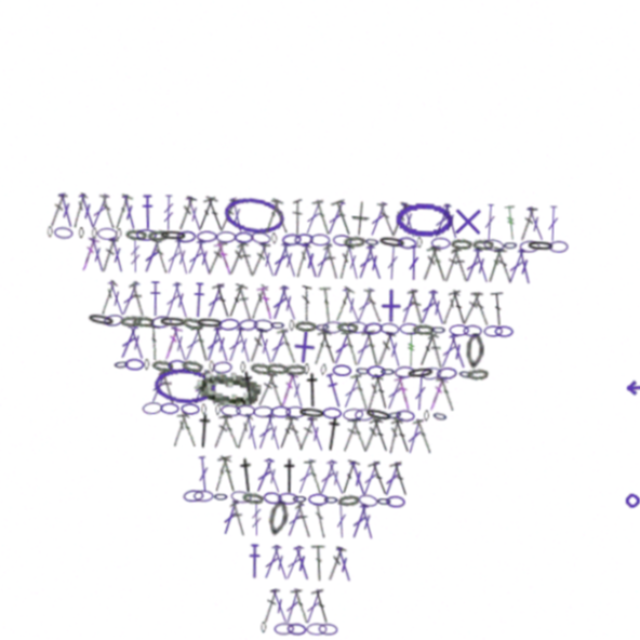chain: (240, 223, 299, 263), (219, 385, 281, 421), (181, 385, 240, 420), (400, 226, 455, 259), (289, 505, 311, 540), (469, 346, 486, 379), (376, 416, 404, 432), (117, 336, 145, 351), (414, 377, 442, 391), (384, 257, 412, 271), (315, 418, 342, 430), (184, 338, 211, 349), (218, 338, 245, 349), (182, 258, 209, 269), (522, 258, 549, 269), (205, 337, 226, 351), (428, 377, 448, 391), (482, 257, 502, 271), (354, 497, 375, 510), (206, 377, 227, 390), (470, 377, 491, 390), (148, 337, 169, 350), (171, 257, 192, 270), (373, 337, 392, 351), (211, 497, 231, 510), (255, 497, 275, 510), (171, 417, 191, 430), (403, 377, 423, 390), (442, 377, 462, 390), (177, 337, 197, 350), (285, 497, 304, 510), (373, 497, 392, 510), (133, 337, 152, 350), (267, 257, 286, 270), (307, 257, 326, 270), (266, 498, 286, 510), (179, 378, 199, 390), (270, 378, 290, 390), (302, 378, 322, 390), (353, 258, 373, 270), (299, 618, 318, 630), (244, 418, 263, 430), (274, 418, 293, 430), (357, 418, 376, 430), (235, 378, 254, 390), (240, 338, 259, 350), (258, 338, 277, 350), (272, 338, 291, 350), (336, 338, 355, 350), (198, 258, 217, 270), (516, 258, 535, 270), (285, 378, 305, 389), (160, 338, 180, 349), (310, 338, 330, 349), (349, 338, 369, 349), (419, 338, 439, 349), (151, 258, 171, 269), (452, 258, 472, 269), (472, 258, 492, 269), (311, 618, 329, 630), (368, 418, 386, 430), (406, 418, 424, 430), (389, 338, 407, 350), (85, 258, 103, 270), (296, 258, 314, 270), (403, 258, 421, 270), (329, 618, 348, 629), (221, 498, 240, 509), (299, 498, 318, 509), (327, 498, 346, 509), (290, 418, 309, 429), (304, 418, 323, 429), (359, 338, 378, 349), (407, 338, 426, 349), (453, 338, 472, 349), (125, 258, 144, 269), (161, 258, 180, 269), (217, 258, 236, 269), (235, 258, 254, 269), (322, 258, 341, 269), (397, 417, 413, 430), (439, 417, 455, 430), (340, 618, 358, 629), (399, 498, 417, 509), (188, 418, 206, 429), (207, 418, 225, 429), (258, 418, 276, 429), (338, 418, 356, 429), (154, 378, 172, 389), (194, 378, 212, 389), (346, 378, 364, 389), (378, 378, 396, 389), (466, 338, 484, 349), (485, 338, 503, 349), (495, 338, 513, 349), (252, 258, 270, 269), (343, 258, 361, 269), (434, 258, 452, 269), (543, 258, 561, 269), (143, 378, 159, 390), (462, 378, 478, 390), (328, 338, 344, 350), (372, 258, 387, 270), (239, 498, 254, 509), (312, 498, 327, 509), (341, 498, 356, 509), (390, 498, 405, 509), (367, 378, 382, 389), (390, 378, 405, 389), (287, 338, 302, 349), (436, 338, 451, 349), (500, 258, 515, 269), (232, 378, 238, 389), (335, 378, 341, 389), (142, 258, 148, 269), (286, 258, 292, 269), (287, 618, 292, 629), (226, 418, 231, 429), (239, 418, 244, 429), (432, 418, 437, 429), (172, 378, 177, 389), (261, 378, 266, 389), (320, 378, 325, 389), (305, 338, 310, 349), (79, 258, 84, 269), (108, 258, 113, 269), (120, 258, 125, 269), (421, 258, 426, 269)
double: (340, 225, 365, 260), (381, 465, 405, 500), (381, 425, 405, 460), (401, 425, 425, 460), (430, 265, 454, 300), (222, 225, 246, 260), (242, 465, 265, 500), (401, 465, 424, 500), (203, 425, 226, 460), (242, 425, 265, 460), (361, 425, 384, 460), (331, 345, 354, 380), (422, 345, 445, 380), (232, 305, 255, 340), (244, 305, 267, 340), (343, 305, 366, 340), (214, 225, 237, 260), (341, 466, 364, 500), (351, 306, 374, 340), (519, 226, 542, 260), (332, 585, 354, 620), (295, 425, 317, 460), (421, 425, 443, 460), (441, 385, 463, 420), (214, 345, 236, 380), (293, 345, 315, 380), (372, 345, 394, 380), (451, 305, 473, 340), (483, 265, 505, 300), (136, 225, 158, 260), (275, 225, 297, 260), (293, 586, 315, 620), (305, 546, 327, 580), (275, 466, 297, 500), (283, 466, 305, 500), (362, 466, 384, 500), (322, 426, 344, 460), (146, 346, 168, 380), (451, 346, 473, 380), (134, 306, 156, 340), (146, 306, 168, 340), (293, 306, 315, 340), (206, 266, 228, 300), (116, 226, 138, 260), (334, 226, 356, 260), (313, 585, 334, 620), (322, 465, 343, 500), (354, 465, 375, 500), (362, 385, 383, 420), (382, 385, 403, 420), (324, 345, 345, 380), (322, 225, 343, 260), (285, 546, 306, 580), (293, 546, 314, 580), (313, 546, 334, 580), (344, 546, 365, 580), (352, 546, 373, 580), (305, 506, 326, 540), (314, 466, 335, 500), (334, 466, 355, 500), (374, 466, 395, 500), (394, 466, 415, 500), (374, 426, 395, 460), (176, 386, 197, 420), (215, 386, 236, 420), (354, 386, 375, 420), (394, 386, 415, 420), (433, 386, 454, 420), (154, 346, 175, 380), (194, 346, 215, 380), (206, 346, 227, 380), (233, 346, 254, 380), (273, 346, 294, 380), (285, 346, 306, 380), (344, 346, 365, 380), (364, 346, 385, 380), (384, 346, 405, 380), (443, 346, 464, 380), (194, 306, 215, 340), (225, 306, 246, 340), (364, 306, 385, 340), (423, 306, 444, 340), (431, 306, 452, 340), (166, 266, 187, 300), (233, 266, 254, 300), (245, 266, 266, 300), (273, 266, 294, 300), (285, 266, 306, 300), (293, 266, 314, 300), (313, 266, 334, 300), (364, 266, 385, 300), (372, 266, 393, 300), (463, 266, 484, 300), (471, 266, 492, 300), (503, 266, 524, 300), (105, 226, 126, 260), (204, 226, 225, 260), (314, 226, 335, 260), (374, 226, 395, 260), (394, 226, 415, 260), (433, 226, 454, 260), (236, 465, 256, 500), (353, 345, 373, 380), (463, 306, 484, 339), (325, 586, 345, 620), (314, 506, 334, 540), (365, 506, 385, 540), (276, 426, 296, 460), (284, 426, 304, 460), (276, 386, 296, 420), (304, 386, 324, 420), (403, 386, 423, 420), (187, 346, 207, 380), (246, 346, 266, 380), (254, 346, 274, 380), (266, 346, 286, 380), (393, 346, 413, 380), (187, 306, 207, 340), (286, 306, 306, 340), (405, 306, 425, 340), (413, 306, 433, 340), (108, 266, 128, 300), (116, 266, 136, 300), (187, 266, 207, 300), (215, 266, 235, 300), (254, 266, 274, 300), (266, 266, 286, 300), (325, 266, 345, 300), (424, 266, 444, 300), (86, 226, 106, 260), (197, 226, 217, 260), (236, 226, 256, 260), (403, 226, 423, 260), (442, 226, 462, 260), (226, 266, 246, 299), (452, 266, 472, 299), (306, 586, 325, 620), (246, 506, 265, 540), (254, 506, 273, 540), (373, 506, 392, 540), (236, 426, 255, 460), (264, 426, 283, 460), (304, 426, 323, 460), (315, 426, 334, 460), (185, 386, 204, 420), (224, 386, 243, 420), (296, 386, 315, 420), (375, 386, 394, 420), (226, 346, 245, 380), (155, 306, 174, 340), (254, 306, 273, 340), (274, 306, 293, 340), (472, 306, 491, 340), (135, 266, 154, 300), (195, 266, 214, 300), (353, 266, 372, 300), (512, 266, 531, 300), (145, 226, 164, 260), (373, 306, 392, 339), (444, 306, 463, 339), (383, 226, 402, 259), (356, 426, 374, 460), (415, 426, 433, 460), (433, 346, 451, 380), (334, 266, 352, 300), (445, 266, 463, 300), (493, 266, 511, 300), (79, 226, 97, 260), (245, 226, 263, 260), (514, 226, 532, 260), (198, 426, 216, 459), (257, 426, 275, 459), (285, 386, 303, 419), (128, 306, 146, 339), (267, 306, 285, 339), (285, 226, 303, 259), (287, 586, 304, 620), (396, 426, 413, 460), (128, 266, 145, 300), (346, 266, 363, 300), (176, 266, 193, 299), (307, 266, 324, 299), (126, 226, 143, 259), (490, 306, 506, 340), (331, 546, 347, 579), (100, 226, 116, 259), (331, 306, 346, 340), (223, 466, 237, 500), (332, 506, 346, 539), (352, 506, 365, 539), (174, 346, 187, 379), (422, 386, 434, 419), (393, 266, 405, 299), (482, 226, 494, 259), (413, 266, 424, 299), (541, 226, 552, 259), (315, 306, 325, 339), (305, 226, 315, 259)
half_double: (337, 425, 360, 460), (258, 385, 281, 420), (259, 466, 281, 500), (338, 385, 359, 420), (219, 426, 240, 460), (300, 466, 319, 499), (319, 386, 338, 419), (214, 306, 228, 339), (164, 226, 178, 259), (273, 546, 286, 579), (174, 306, 187, 339)
noise: (4, 430, 29, 455), (616, 383, 640, 399), (620, 489, 635, 504)
single: (302, 345, 337, 380), (382, 306, 415, 339), (451, 226, 484, 259), (359, 226, 378, 260)
treble: (500, 226, 515, 260), (274, 506, 286, 539), (155, 266, 167, 299), (413, 346, 424, 379), (185, 226, 196, 259)
